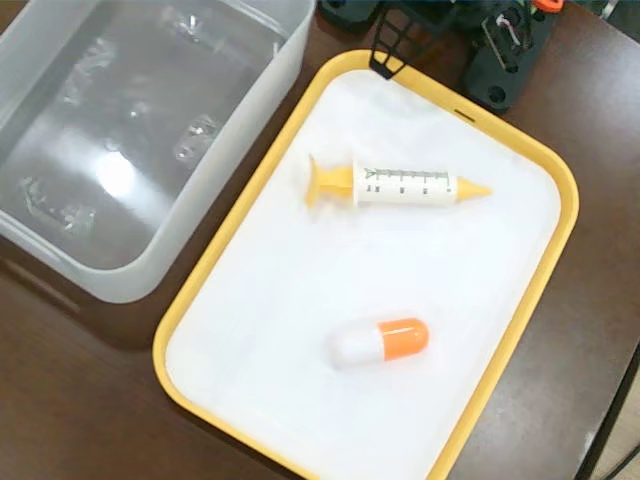pill: (320, 315, 433, 368)
syringe: (300, 147, 499, 226)
